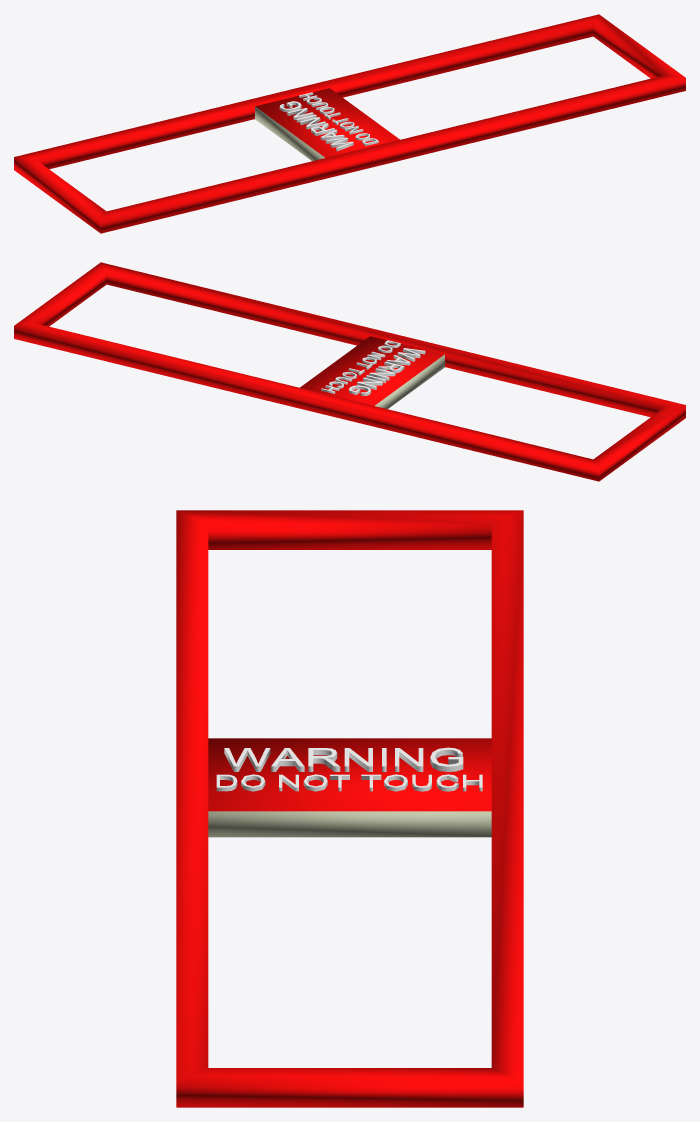
Rendered from color_red.obj.
3 renders of one model, top to bottom at view 1: azimuth 30°, elevation 25°; view 2: azimuth 150°, elevation 25°; view 3: azimuth 270°, elevation 25°, orthographic. The views are drawn at different scales.
Visible parts, largest first — view 1: Cube2_copy3_red, Cube2_copy3_white2, Cube2_copy3_default; view 2: Cube2_copy3_red, Cube2_copy3_white2, Cube2_copy3_default; view 3: Cube2_copy3_red, Cube2_copy3_default, Cube2_copy3_white2.
Boxes of the visible parts, bbox=[...] form: Cube2_copy3_red: bbox=[14, 14, 685, 233]; Cube2_copy3_white2: bbox=[279, 92, 378, 151]; Cube2_copy3_default: bbox=[255, 106, 324, 160]; Cube2_copy3_red: bbox=[14, 262, 685, 481]; Cube2_copy3_white2: bbox=[321, 340, 425, 395]; Cube2_copy3_default: bbox=[375, 354, 444, 408]; Cube2_copy3_red: bbox=[176, 510, 523, 1107]; Cube2_copy3_default: bbox=[208, 811, 491, 837]; Cube2_copy3_white2: bbox=[216, 747, 482, 791].
Bounding box in the file's own units: 2.35 × 0.0603 × 0.604.
